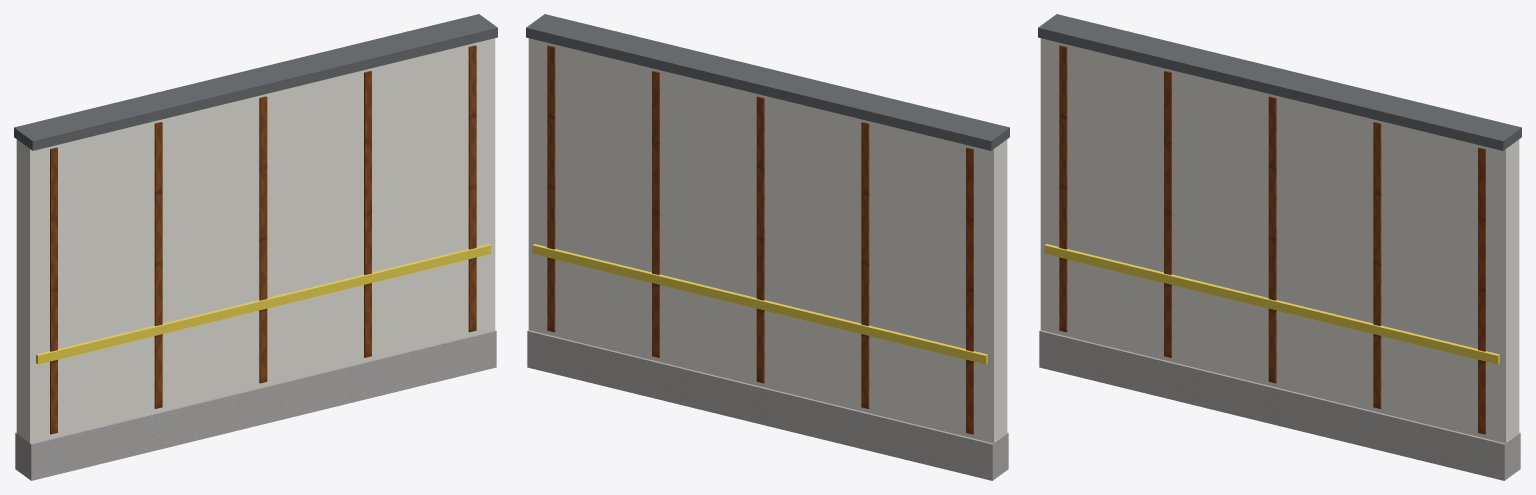
The model's file is woodworking-workshop-and-joinery-woodworking-workshop--422c03bf__34233.glb.
The picture shows the model from 3 angles, left to right: view 1: azimuth 30°, elevation 25°; view 2: azimuth 150°, elevation 25°; view 3: azimuth 330°, elevation 25°; orthographic projection.
Visible parts, largest first — view 1: woodworking-workshop-and-joinery-workshop-wall-panel; view 2: woodworking-workshop-and-joinery-workshop-wall-panel; view 3: woodworking-workshop-and-joinery-workshop-wall-panel.
Part boxes in pixels (x1,y1,x2,y2): woodworking-workshop-and-joinery-workshop-wall-panel: (14, 14, 497, 480); woodworking-workshop-and-joinery-workshop-wall-panel: (526, 14, 1009, 480); woodworking-workshop-and-joinery-workshop-wall-panel: (1038, 14, 1521, 480).
Size of the model in its own units: 4 by 2.8 by 0.2798.
Materials: 5 (2 with a texture image).
